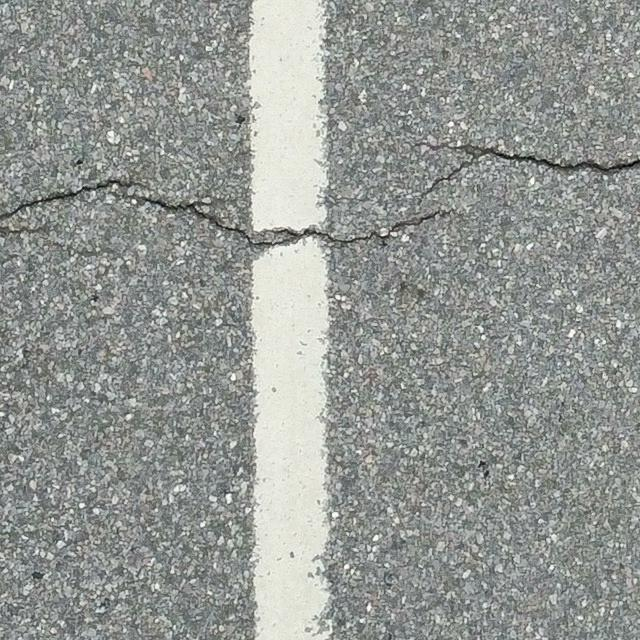TransverseCrack: (1, 142, 640, 250)
